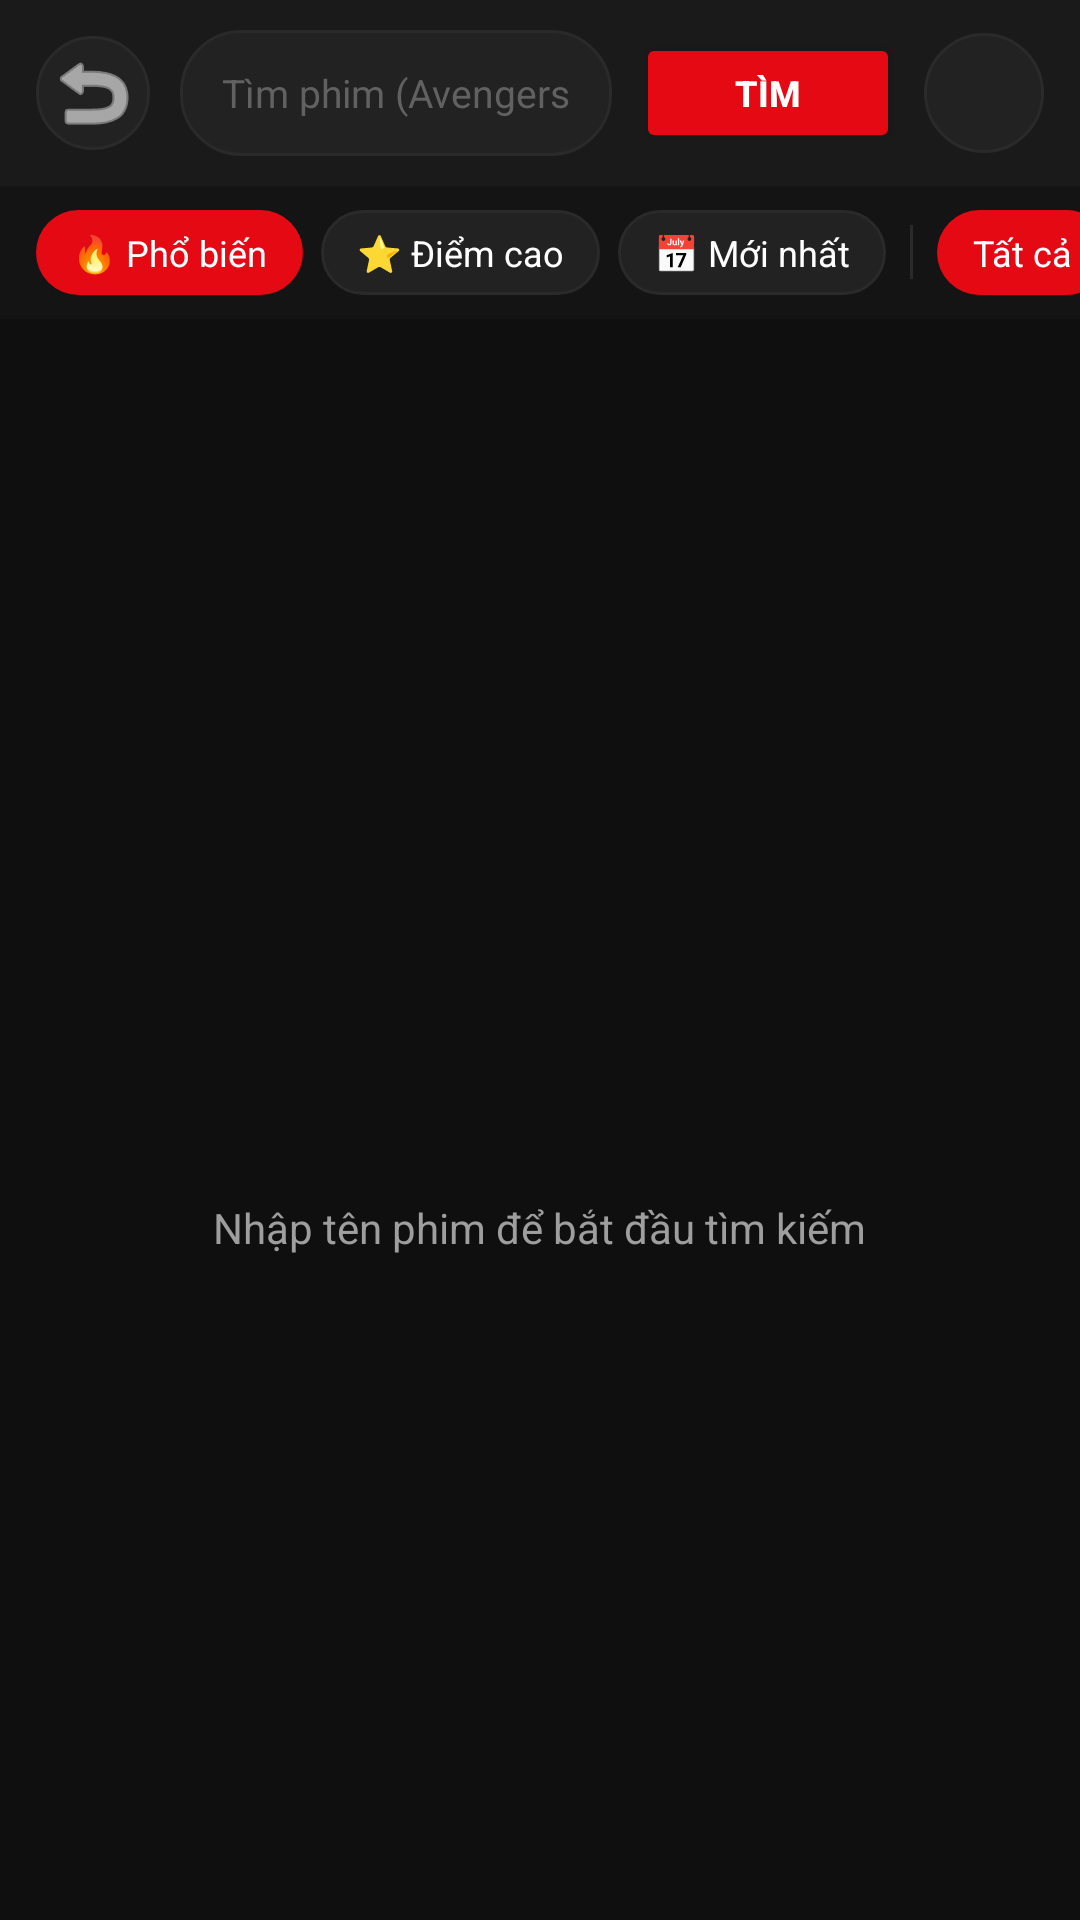

Icons on this 1080x1920 Android screen, each with its box as (left=x1, top=y1, right=x2, bottom=y2):
Quay lại: (left=59, top=62, right=129, bottom=125)
